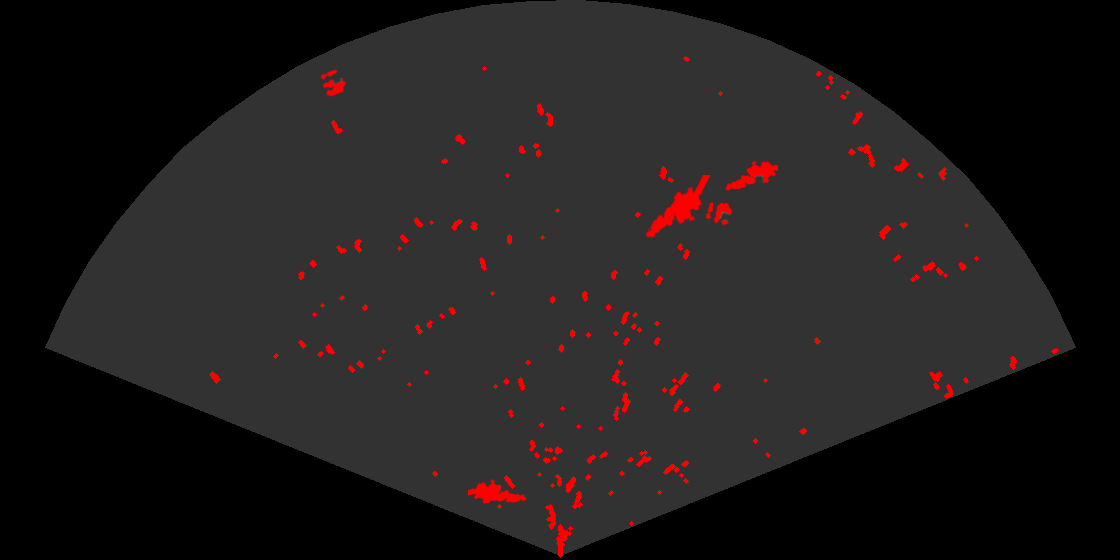ball: (319, 68, 347, 98), (704, 200, 734, 227)
frogman: (644, 175, 712, 240), (724, 159, 778, 192), (468, 477, 529, 505)
